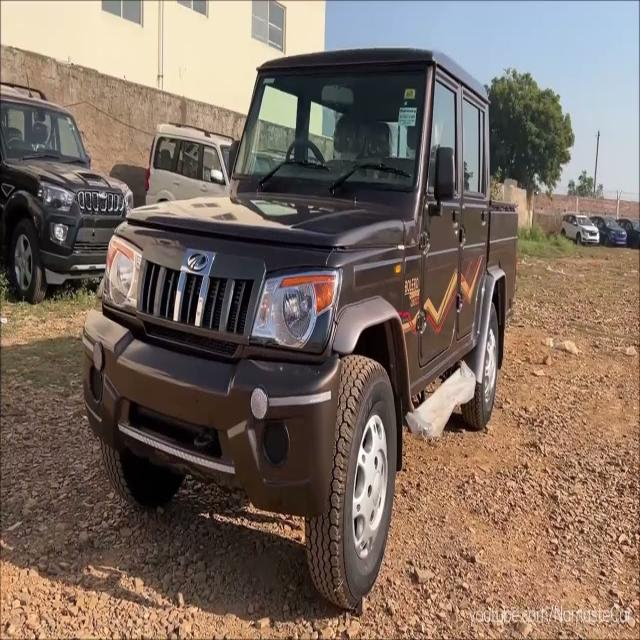light_vehicle: (96, 50, 517, 583), (2, 102, 102, 290), (149, 126, 211, 194)
